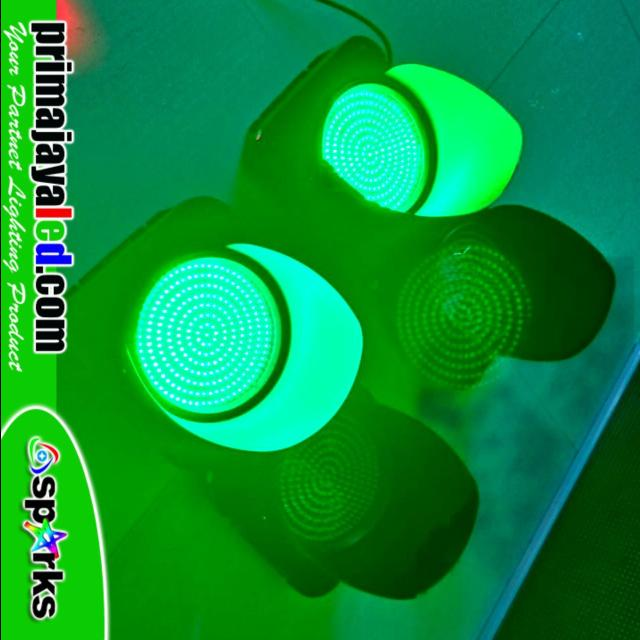green-lights: (128, 255, 280, 417), (316, 81, 428, 216)
